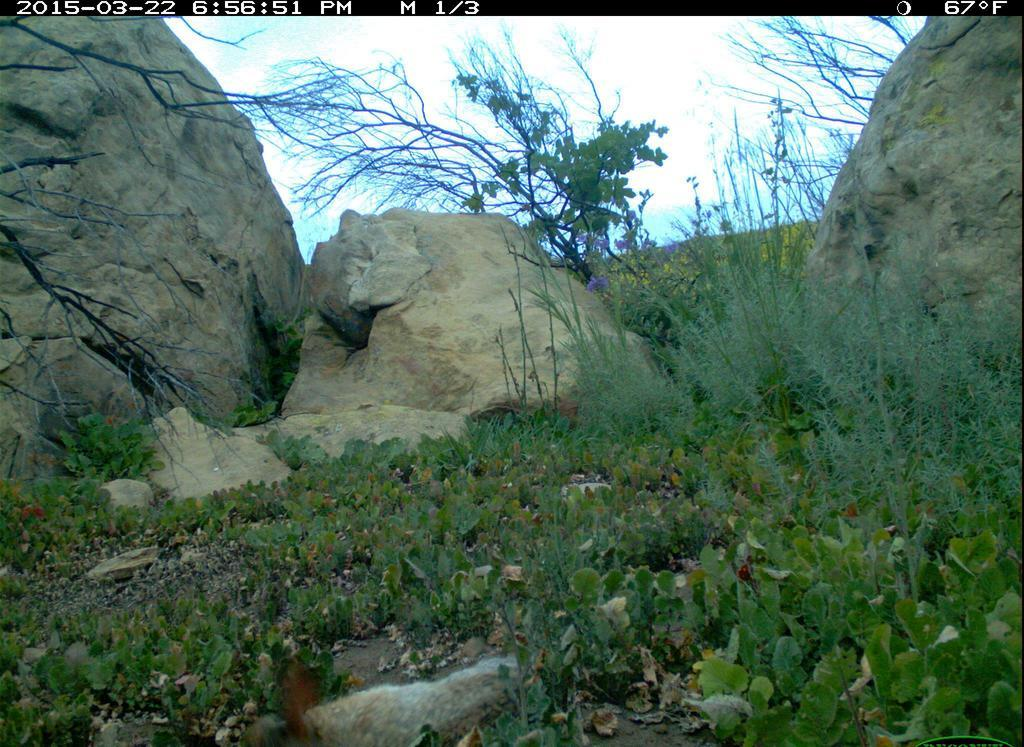rabbit: (259, 647, 536, 747)
